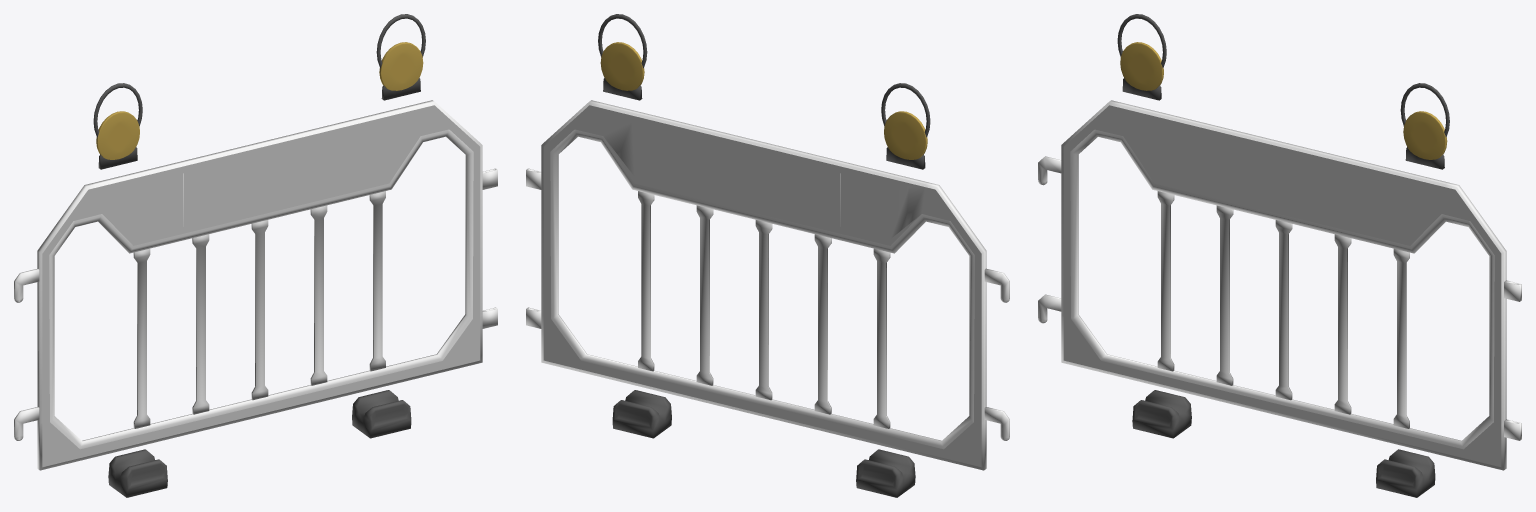
File: wall 2.fbx
3 renders of one model, left to right at view 1: azimuth 30°, elevation 25°; view 2: azimuth 150°, elevation 25°; view 3: azimuth 330°, elevation 25°, orthographic.
Parts seen in each view (by area): view 1: Desirefx.me_CyberAcc_RoadBlock_RedWhiteStripes, Desirefx.me_CyberAcc_RoadBlock_PlasticWhite, Desirefx.me_CyberAcc_RoadBlock_Decals, Desirefx.me_CyberAcc_RoadBlock_PaintBlack, Desirefx.me_CyberAcc_RoadBlock_LightOrange; view 2: Desirefx.me_CyberAcc_RoadBlock_RedWhiteStripes, Desirefx.me_CyberAcc_RoadBlock_PlasticWhite, Desirefx.me_CyberAcc_RoadBlock_Decals, Desirefx.me_CyberAcc_RoadBlock_PaintBlack, Desirefx.me_CyberAcc_RoadBlock_LightOrange; view 3: Desirefx.me_CyberAcc_RoadBlock_RedWhiteStripes, Desirefx.me_CyberAcc_RoadBlock_PlasticWhite, Desirefx.me_CyberAcc_RoadBlock_Decals, Desirefx.me_CyberAcc_RoadBlock_PaintBlack, Desirefx.me_CyberAcc_RoadBlock_LightOrange.
Boxes of the visible parts, x1,y1,x2,y2 form: Desirefx.me_CyberAcc_RoadBlock_RedWhiteStripes: [42, 105, 480, 467]; Desirefx.me_CyberAcc_RoadBlock_PlasticWhite: [14, 100, 497, 470]; Desirefx.me_CyberAcc_RoadBlock_Decals: [183, 135, 339, 226]; Desirefx.me_CyberAcc_RoadBlock_PaintBlack: [93, 14, 425, 497]; Desirefx.me_CyberAcc_RoadBlock_LightOrange: [96, 42, 423, 159]; Desirefx.me_CyberAcc_RoadBlock_RedWhiteStripes: [543, 105, 981, 467]; Desirefx.me_CyberAcc_RoadBlock_PlasticWhite: [526, 100, 1009, 470]; Desirefx.me_CyberAcc_RoadBlock_Decals: [684, 135, 840, 226]; Desirefx.me_CyberAcc_RoadBlock_PaintBlack: [598, 14, 930, 497]; Desirefx.me_CyberAcc_RoadBlock_LightOrange: [600, 42, 927, 159]; Desirefx.me_CyberAcc_RoadBlock_RedWhiteStripes: [1063, 105, 1501, 466]; Desirefx.me_CyberAcc_RoadBlock_PlasticWhite: [1038, 100, 1521, 470]; Desirefx.me_CyberAcc_RoadBlock_Decals: [1204, 135, 1360, 226]; Desirefx.me_CyberAcc_RoadBlock_PaintBlack: [1117, 14, 1449, 497]; Desirefx.me_CyberAcc_RoadBlock_LightOrange: [1120, 42, 1447, 159].
Bounding box in the file's own units: 15.96 × 12.89 × 1.09.
